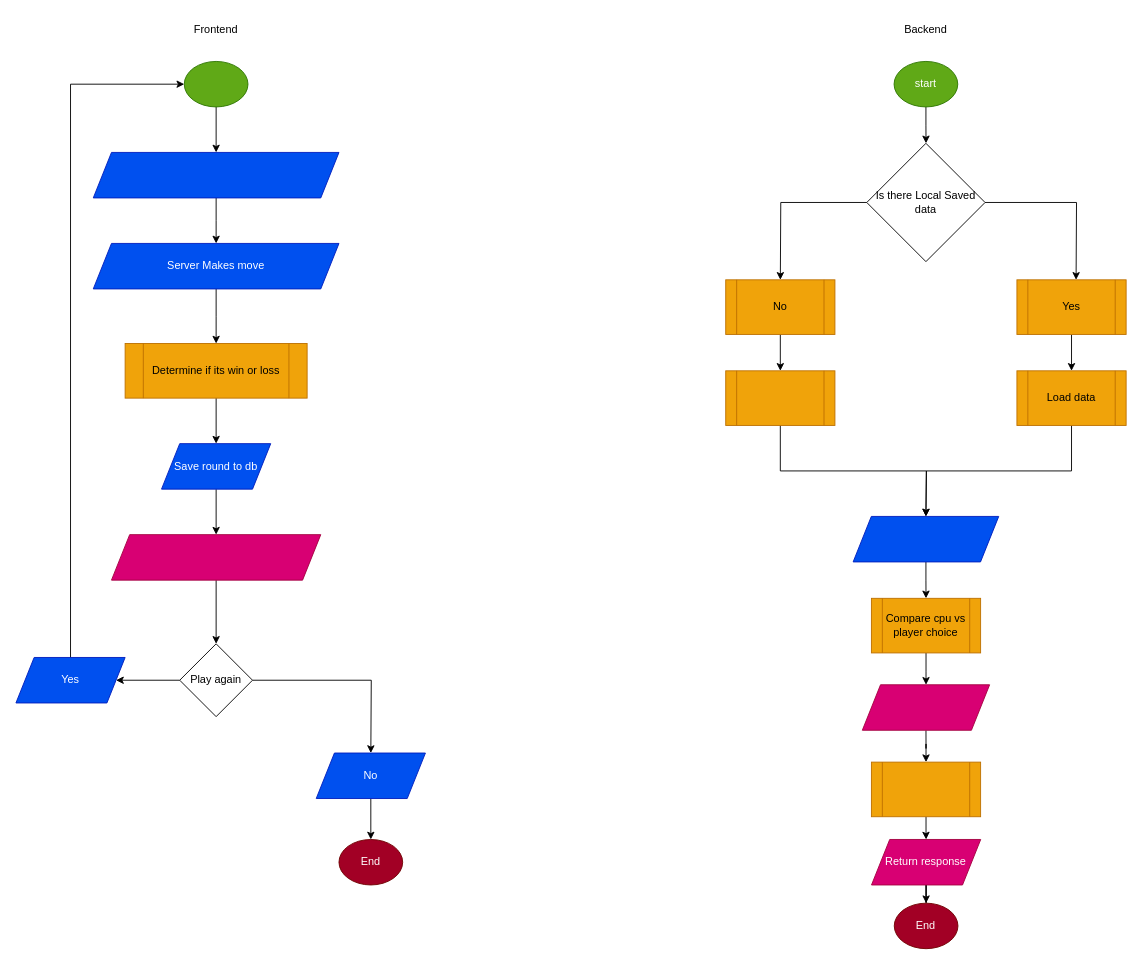
This 1142x965 diagram has some shape labels left out. The shapes that lost their labels are listed below. From the top down, each one's box as (x1, y1, x2, y2) in pixels, then its label:
(183, 61, 248, 107): Website Loads
(92, 152, 339, 198): Player chooses move
(725, 370, 835, 425): Save inputs as new data
(111, 534, 321, 580): Results displayed on front end
(852, 516, 999, 562): Make ur cpu's move
(861, 684, 990, 730): Determine outcome & display
(871, 761, 981, 817): Update database
